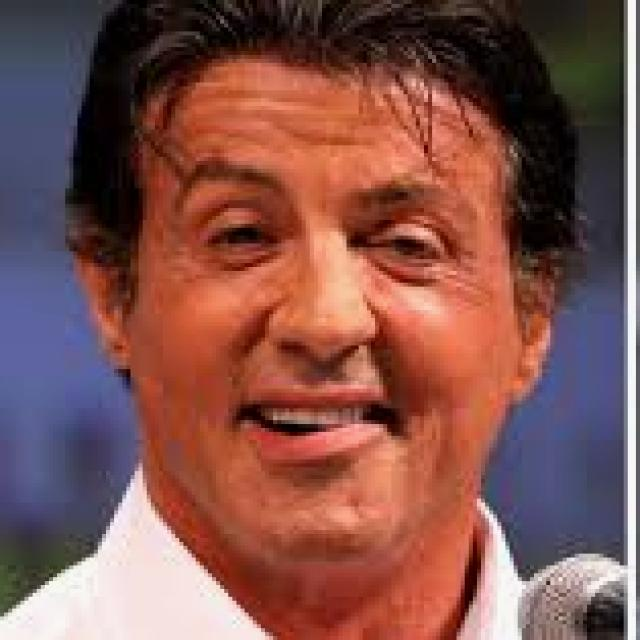normal_face: (137, 18, 527, 589)
